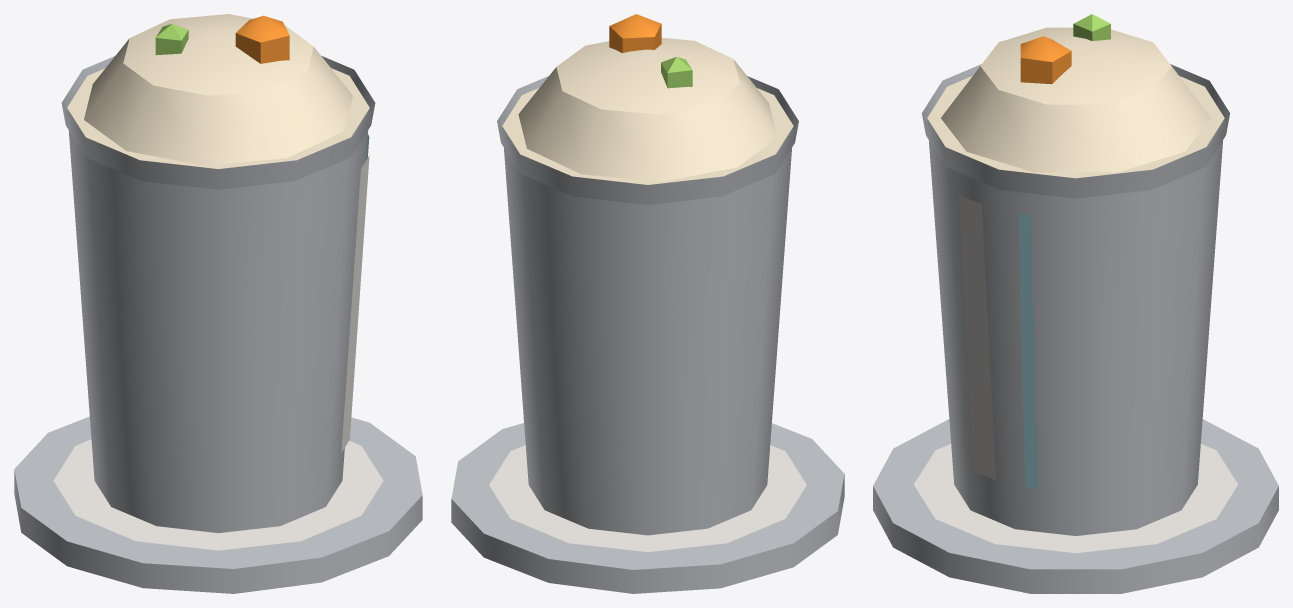
Rendered from pass_lassi.glb.
3 views of the same model, side by side, from view 1: azimuth 30°, elevation 25°; view 2: azimuth 150°, elevation 25°; view 3: azimuth 270°, elevation 25° (orthographic). The views are drawn at different scales.
Parts seen in each view (by area): view 1: pass_lassi; view 2: pass_lassi; view 3: pass_lassi.
Part boxes in pixels (x1,y1,x2,y2): pass_lassi: (14, 14, 422, 593); pass_lassi: (451, 14, 844, 593); pass_lassi: (873, 14, 1278, 593).
Size of the model in its own units: 0.1462 by 0.199 by 0.15.
1 material, 1 textured.
